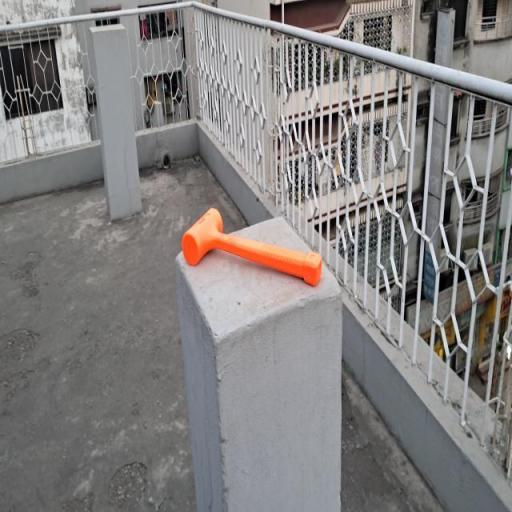mallet: (182, 206, 323, 286)
